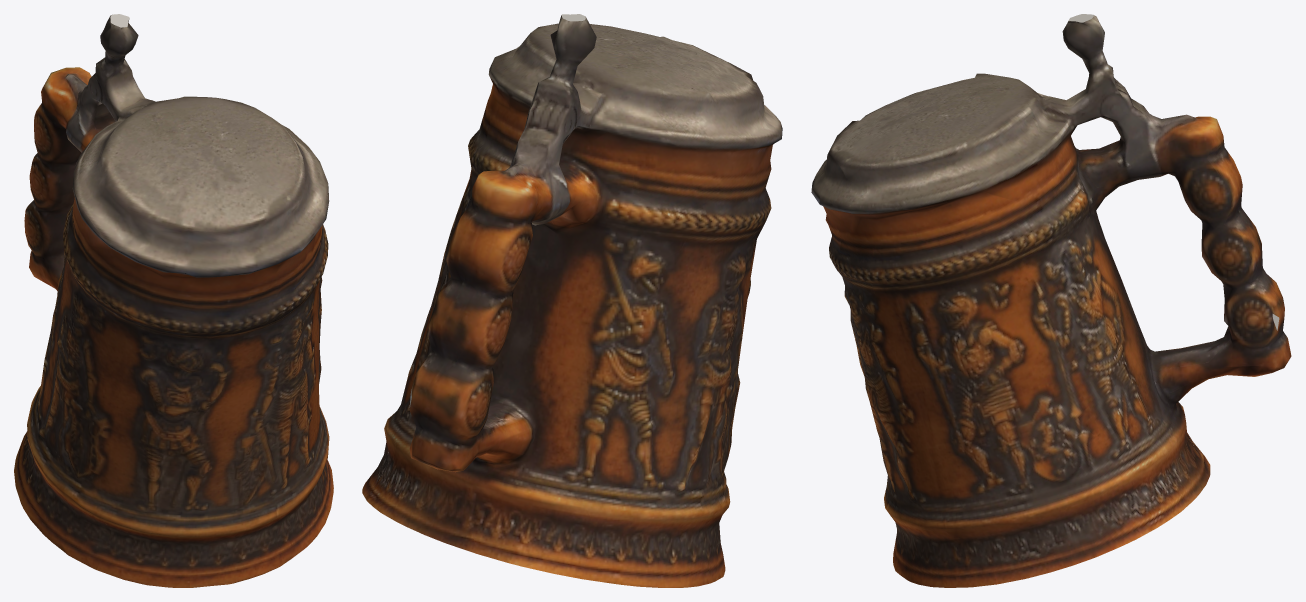
Rendered from 3DModel_LowPoly.gltf.
The picture shows the model from 3 angles, left to right: view 1: azimuth 30°, elevation 25°; view 2: azimuth 150°, elevation 25°; view 3: azimuth 270°, elevation 25°; orthographic projection. The views are drawn at different scales.
Visible parts, largest first — view 1: 3DModel_LowPoly; view 2: 3DModel_LowPoly; view 3: 3DModel_LowPoly.
Part boxes in pixels (bbox=[...]): 3DModel_LowPoly: bbox=[14, 14, 333, 587]; 3DModel_LowPoly: bbox=[362, 14, 782, 587]; 3DModel_LowPoly: bbox=[811, 14, 1291, 587].
Bounding box in the file's own units: 0.1403 × 0.2454 × 0.2035.
Materials: 1 (1 with a texture image).
